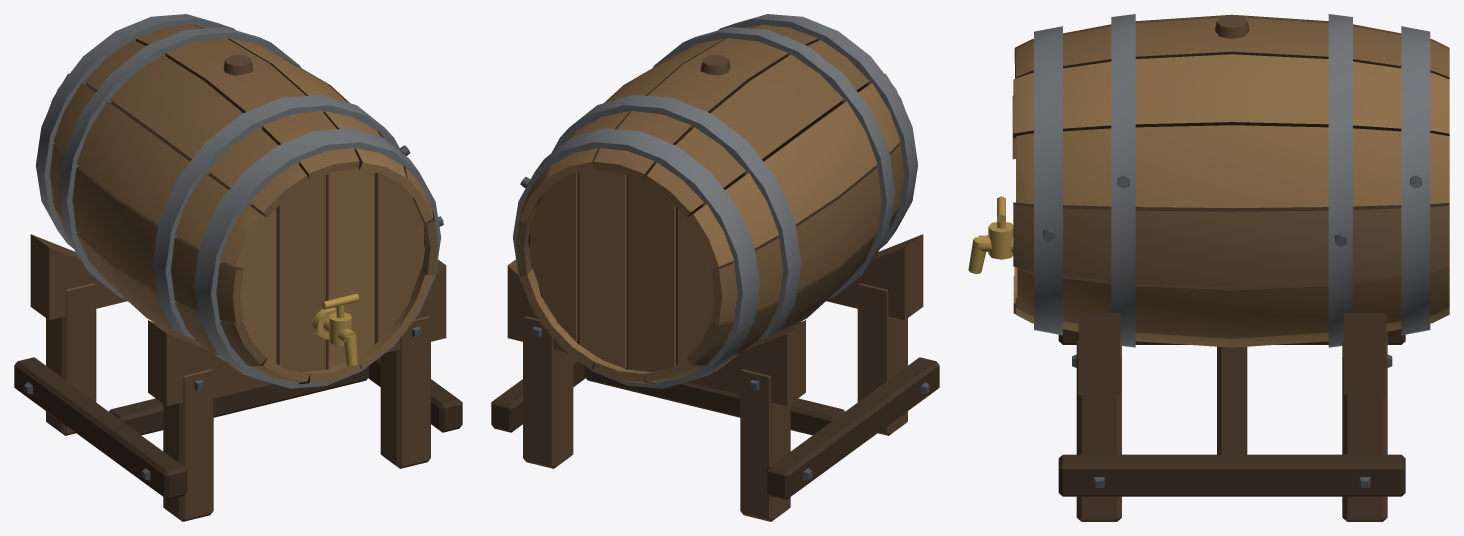
Rendered from SM_LPD_Crate_BarrelRackSingle_01.fbx.
3 views of the same model, side by side, from view 1: azimuth 30°, elevation 25°; view 2: azimuth 150°, elevation 25°; view 3: azimuth 270°, elevation 25° (orthographic). The views are drawn at different scales.
Visible parts, largest first — view 1: SM_LPD_Crate_BarrelRackSingle_01; view 2: SM_LPD_Crate_BarrelRackSingle_01; view 3: SM_LPD_Crate_BarrelRackSingle_01.
Part boxes in pixels (bbox=[...]): SM_LPD_Crate_BarrelRackSingle_01: bbox=[14, 14, 462, 521]; SM_LPD_Crate_BarrelRackSingle_01: bbox=[491, 14, 939, 521]; SM_LPD_Crate_BarrelRackSingle_01: bbox=[968, 14, 1449, 521].
Bounding box in the file's own units: 0.665 × 0.791 × 0.7968.
